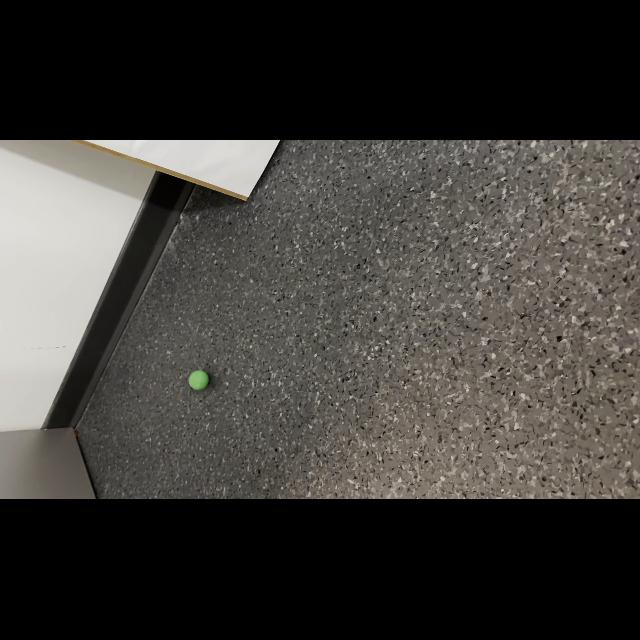objects: (184, 366, 212, 394)
